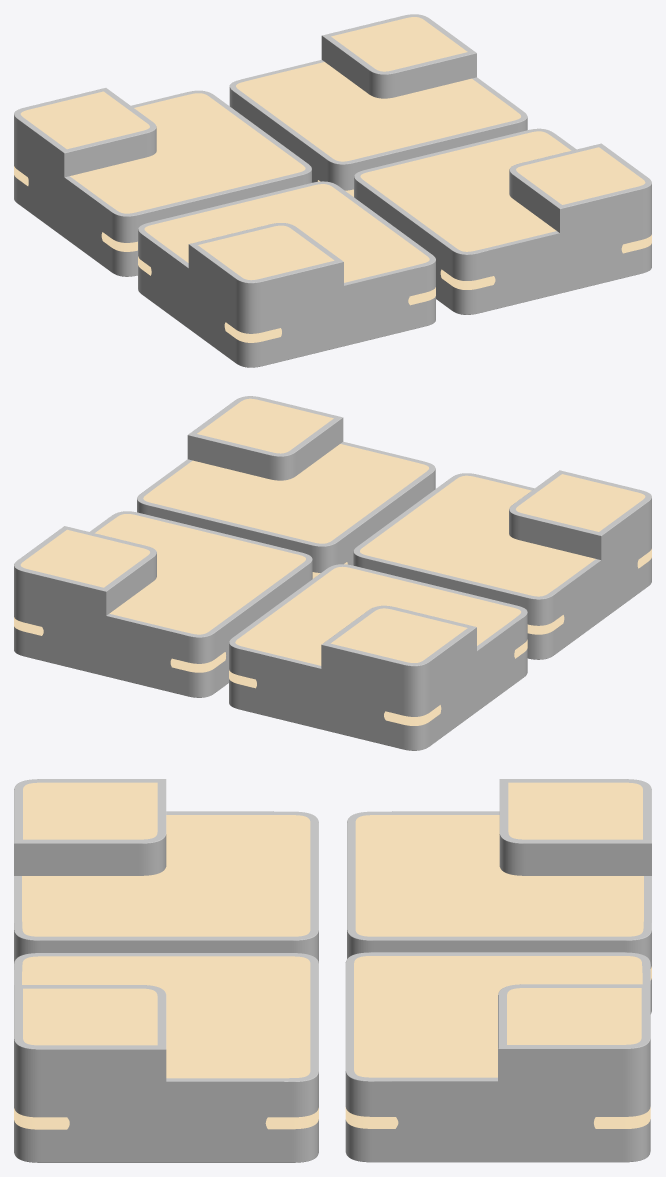
Rendered from 厨房吸顶灯.fbx.
3 views of the same model, one above another, from view 1: azimuth 30°, elevation 25°; view 2: azimuth 150°, elevation 25°; view 3: azimuth 270°, elevation 25° (orthographic). The views are drawn at different scales.
Parts seen in each view (by area): view 1: Box07, Box04, Box08, Box01, Box02, Box06, Box03, Box05; view 2: Box08, Box01, Box07, Box04, Box03, Box05, Box02, Box06; view 3: Box01, Box04, Box08, Box07, Box02, Box05, Box06, Box03.
Part boxes in pixels (x1,y1,x2,y2): Box07: (138, 181, 435, 367); Box04: (354, 128, 651, 314); Box08: (14, 90, 311, 276); Box01: (229, 59, 527, 196); Box02: (321, 14, 476, 98); Box06: (188, 223, 343, 307); Box03: (509, 143, 651, 232); Box05: (14, 88, 156, 177); Box08: (229, 564, 527, 750); Box01: (14, 511, 312, 697); Box07: (353, 473, 651, 659); Box04: (137, 441, 435, 578); Box03: (187, 396, 343, 480); Box05: (321, 605, 476, 690); Box02: (14, 526, 156, 615); Box06: (509, 470, 651, 559); Box01: (345, 952, 650, 1162); Box04: (14, 953, 318, 1162); Box08: (347, 811, 651, 1013); Box07: (14, 811, 318, 962); Box02: (498, 984, 650, 1081); Box05: (499, 779, 651, 875); Box06: (14, 779, 166, 875); Box03: (14, 985, 166, 1081).
Size of the model in its own units: 713 by 140 by 711.
